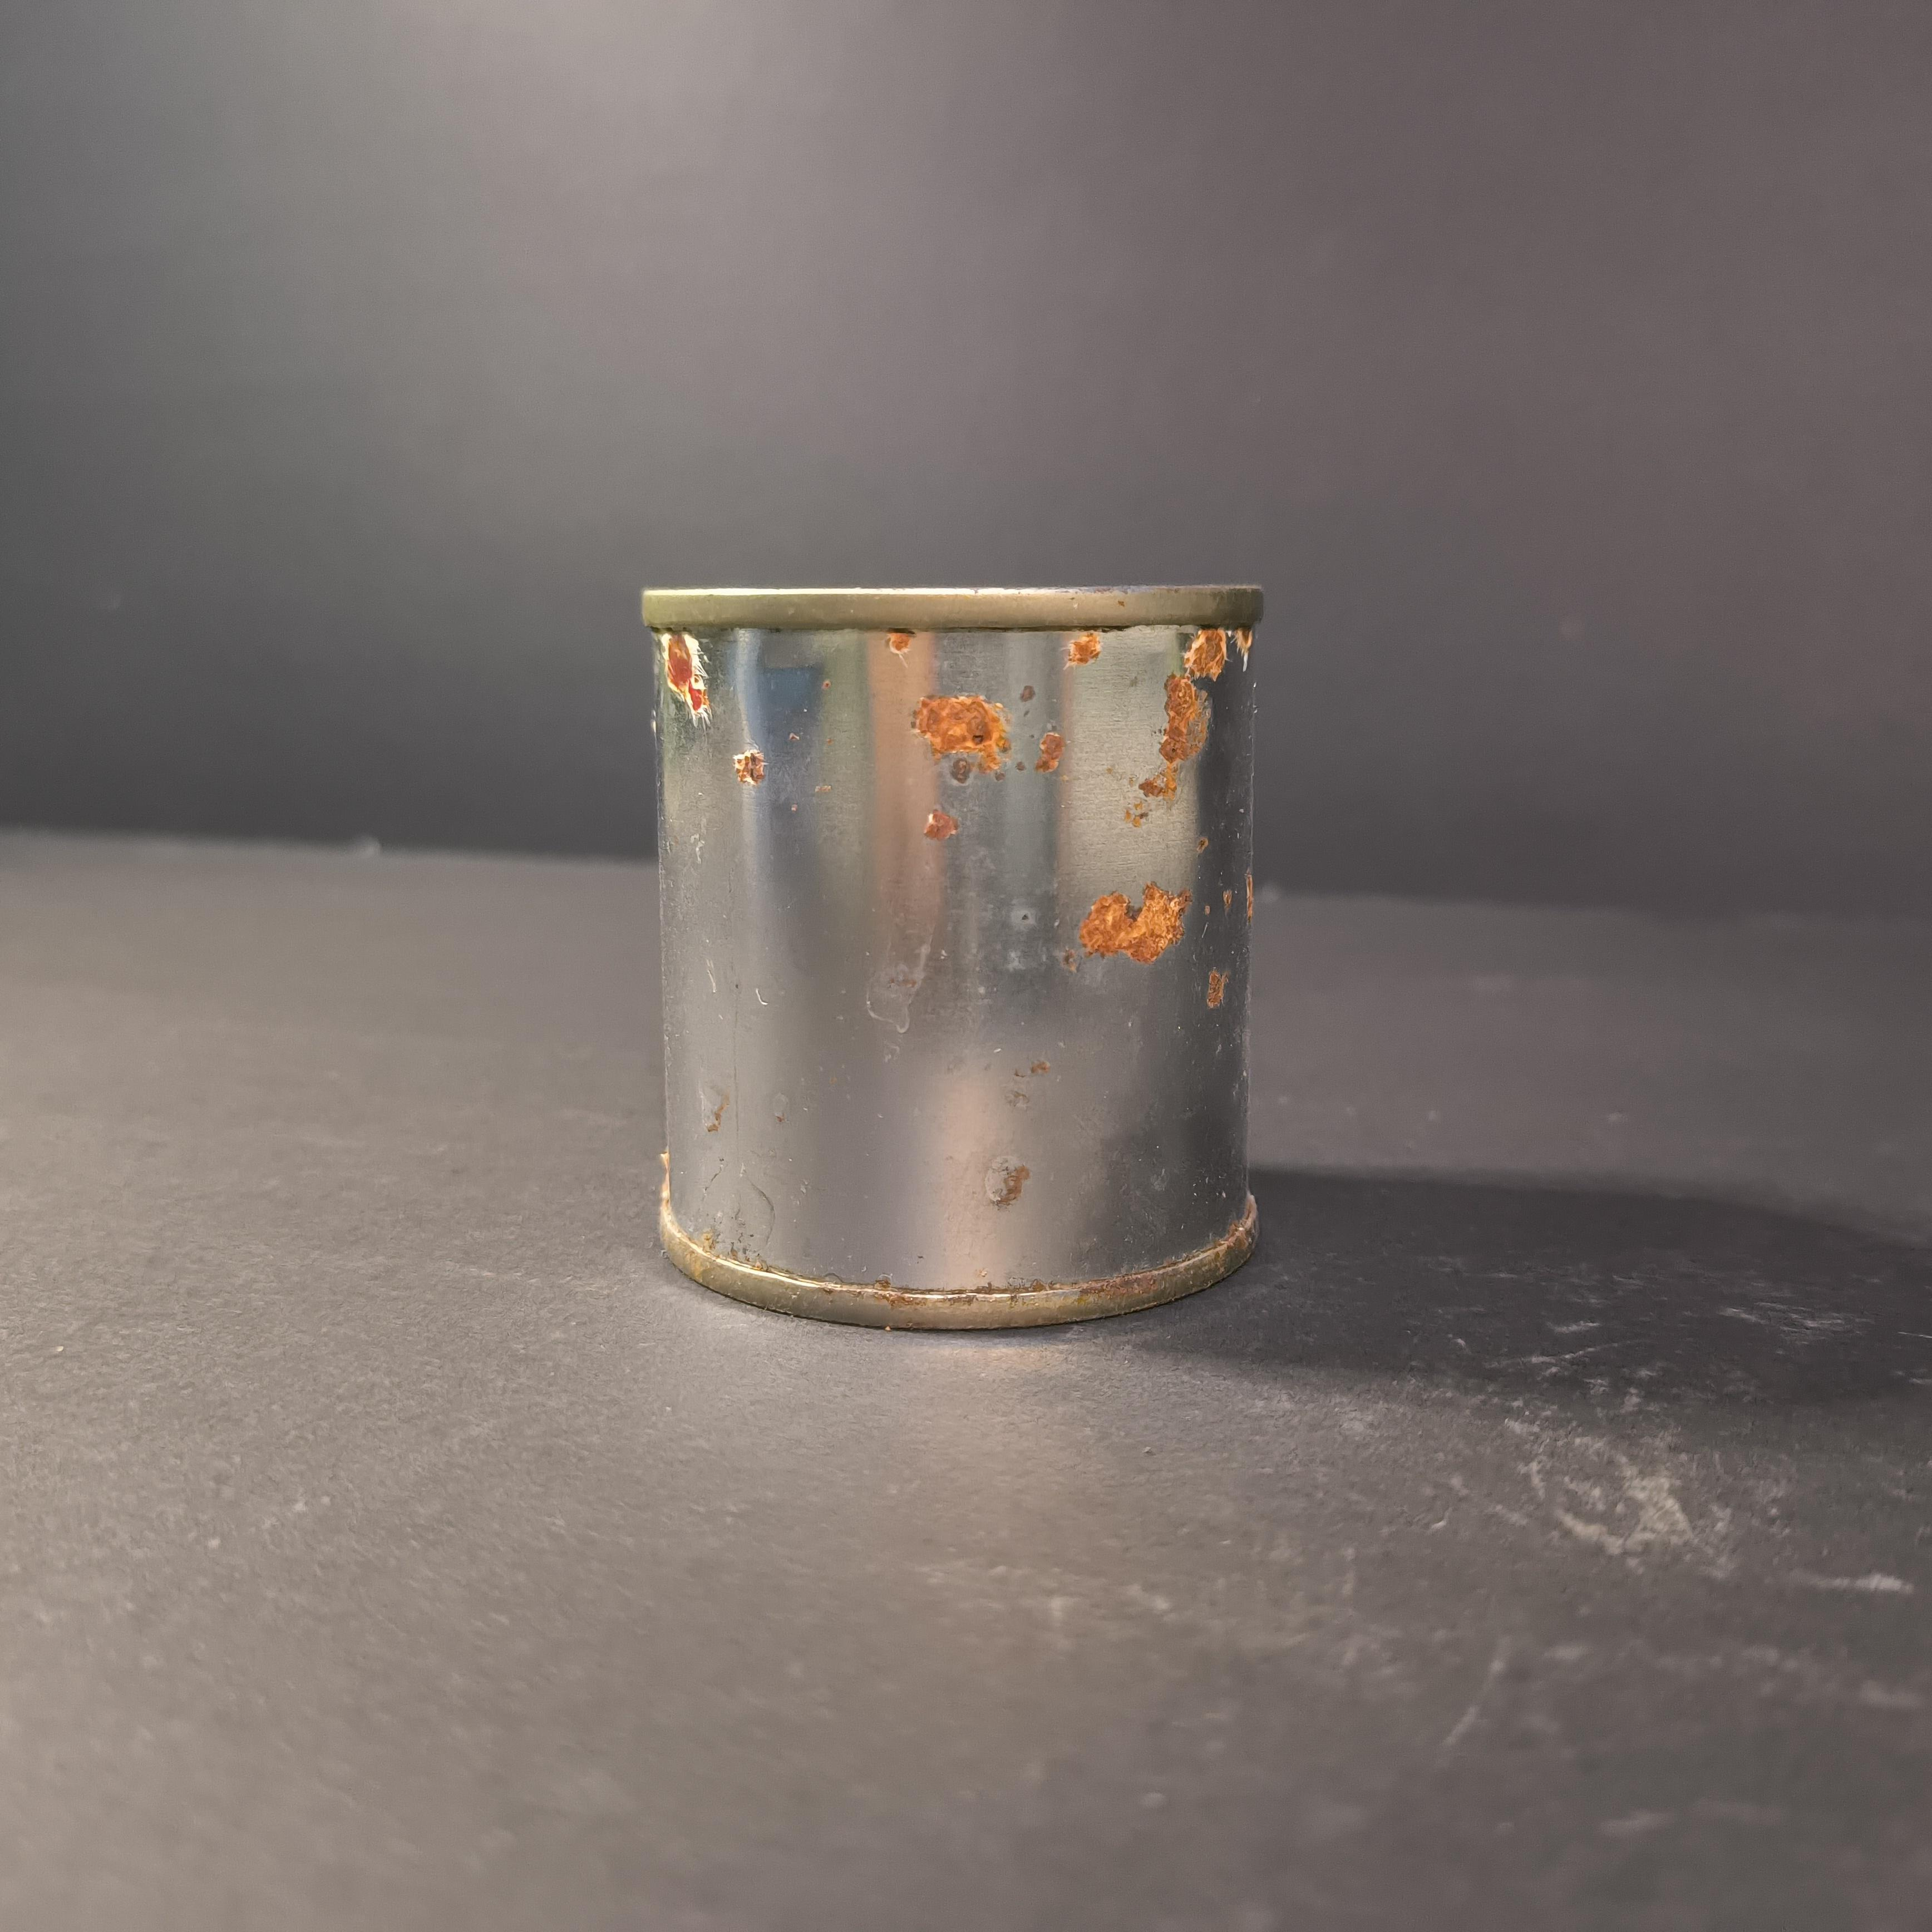Rusted: (596, 548, 1306, 1352)
